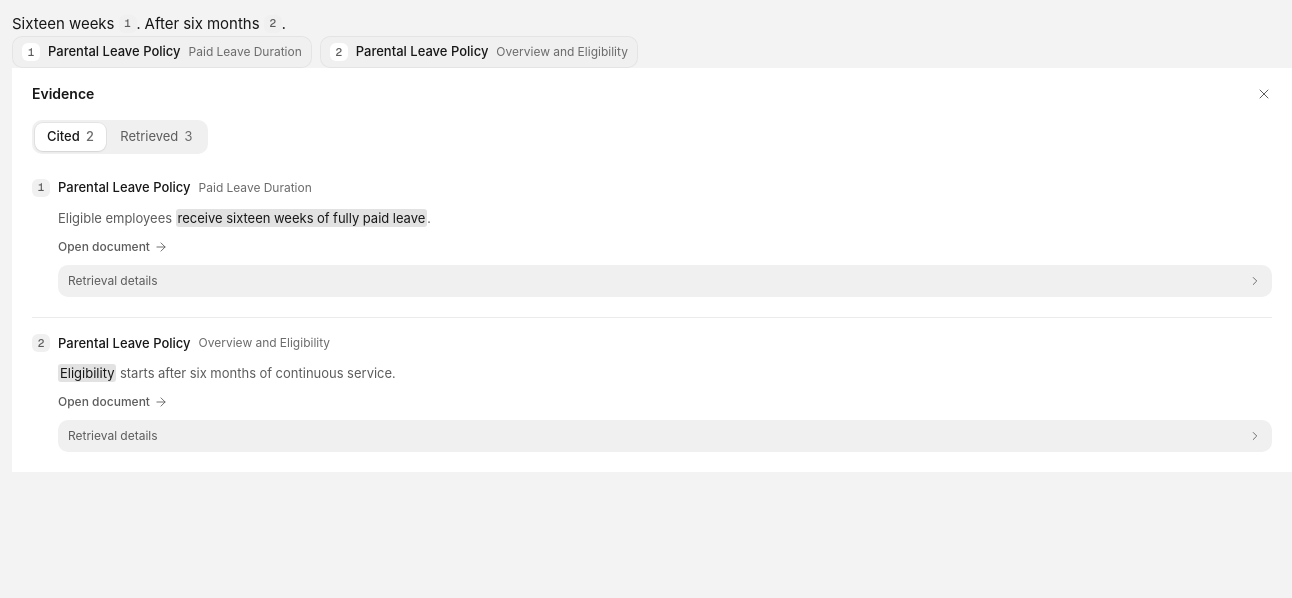
Test: EvidencePanel › shows Copy failed, never Copied, when the clipboard rejects
Click the button "Retrieval details" below "Eligible employees" at (113, 280), box 58,264 -> 1272,296
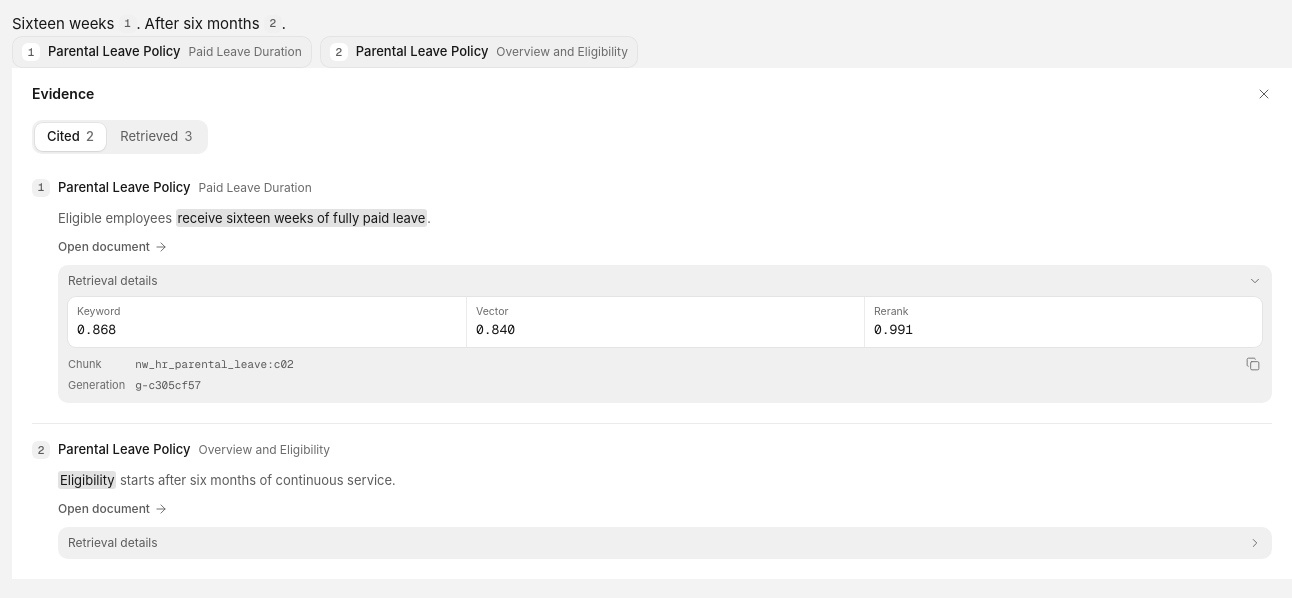
Click the button named "Copy chunk ID" at (1253, 364), box 1244,355 -> 1262,373
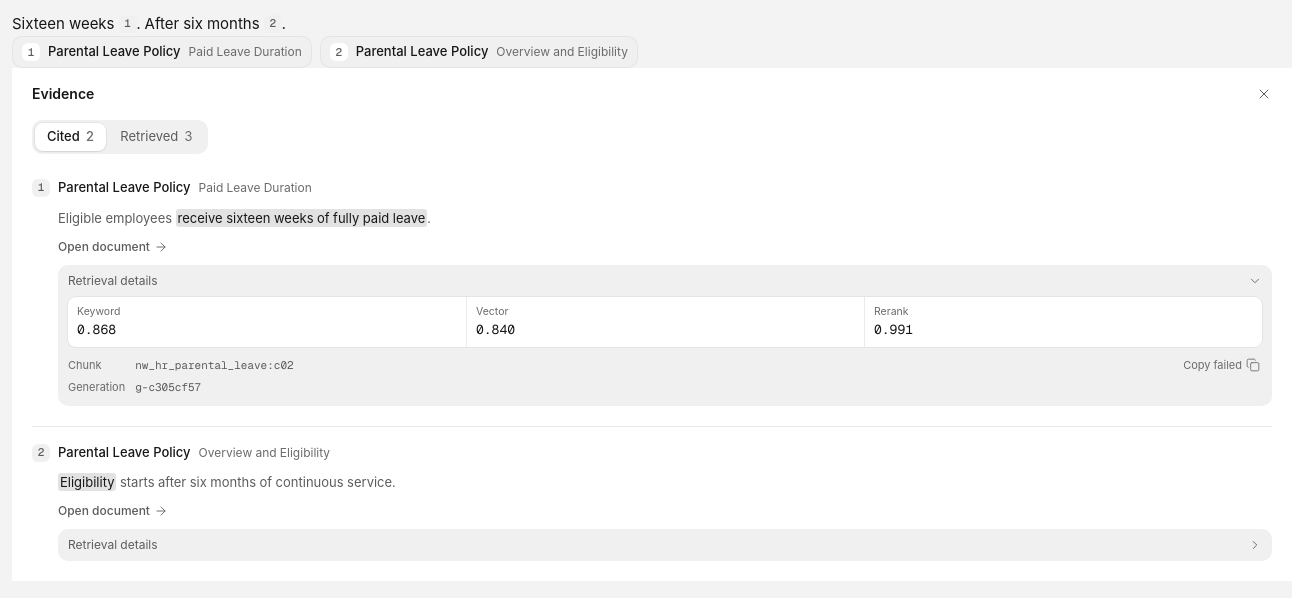
Now the text "Copy failed" is shown, box 1183,357 -> 1242,373
